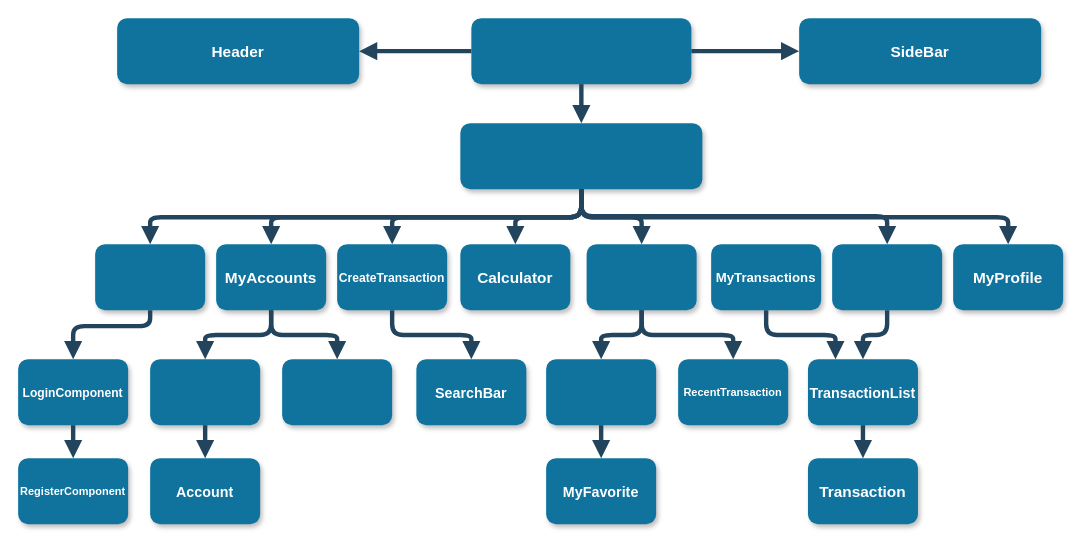
Some shapes in this 1081 by 542 pixel diagram are drawn without their labels. Here are the shapes that lost their labels. From the top down, the centre of each, then its label:
the point at 581,52: App
the point at 581,157: RouterView (views)
the point at 150,278: Login
the point at 642,278: Home
the point at 887,278: AccountInfo
the point at 205,393: AccountList
the point at 337,393: AccountForm
the point at 601,393: MyFavorites
